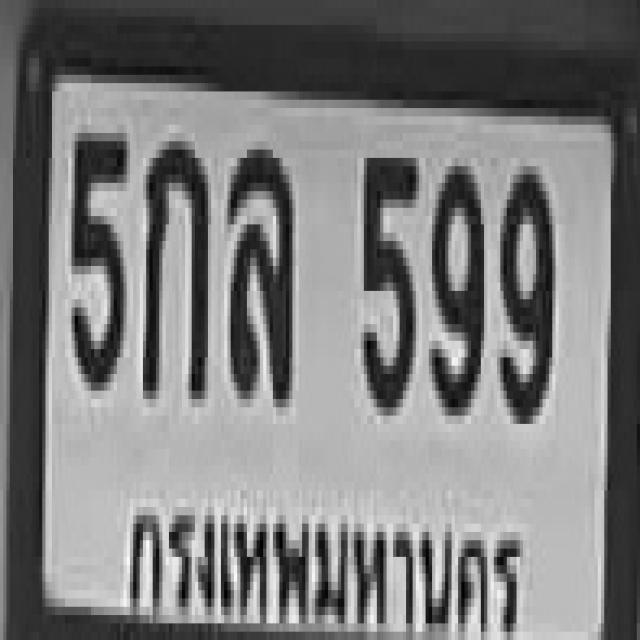10GorGai: (140, 133, 204, 391)
45LorLing: (224, 141, 289, 391)
5: (360, 150, 416, 407), (68, 125, 124, 382)
9: (497, 158, 549, 416), (429, 158, 481, 407)
Bangkok: (114, 482, 523, 640)
